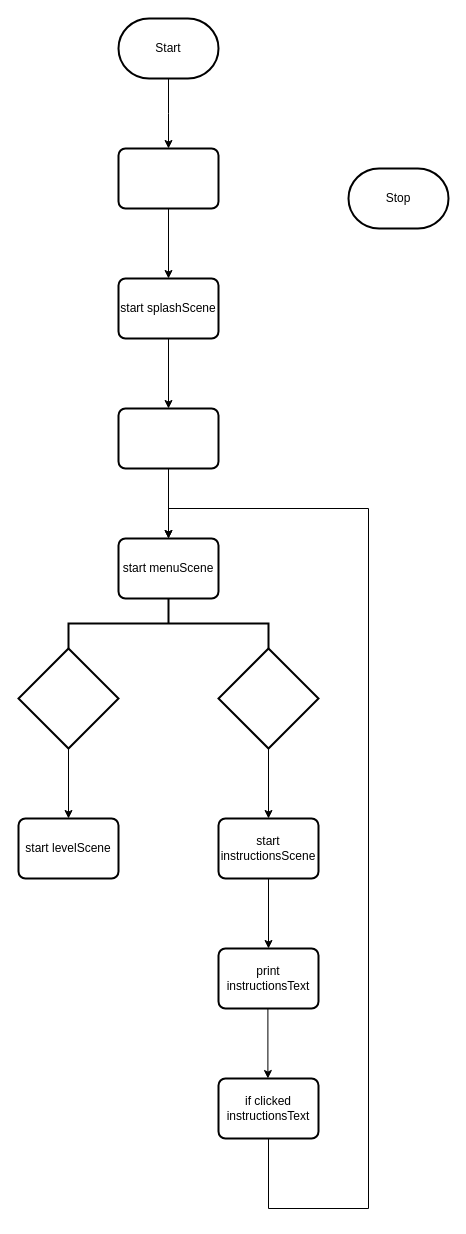
The diagram is 466 pixels wide and 1234 high, and some of its shapes have lost their labels. Here are the shapes that lost their labels. From the top down, the centre of each, then its label:
At [168,178]: "load HTML".
At [168,438]: "start titleScene".
At [68,698]: "if clicked startButton".
At [268,698]: "if clicked instructionsButton".
